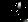person: (13, 4, 21, 17)
